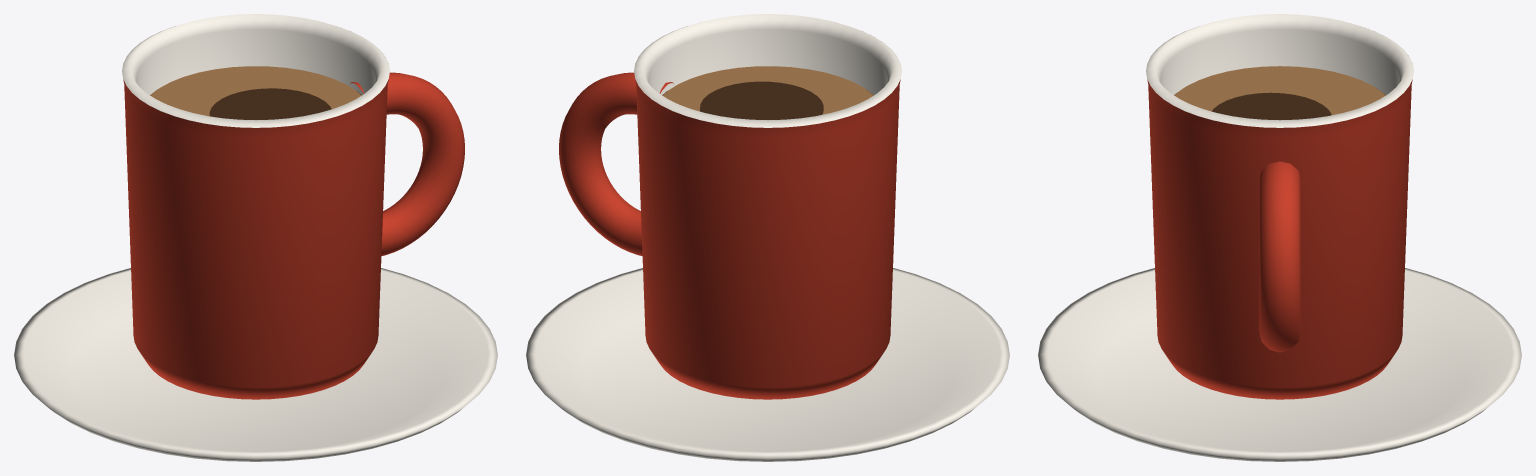
File: mug.glb
The picture shows the model from 3 angles, left to right: view 1: azimuth 30°, elevation 25°; view 2: azimuth 150°, elevation 25°; view 3: azimuth 270°, elevation 25°; orthographic projection.
Parts seen in each view (by area): view 1: mugmesh; view 2: mugmesh; view 3: mugmesh.
Boxes of the visible parts, left/top/right/bottom form: mugmesh: left=14, top=14, right=497, bottom=461; mugmesh: left=526, top=14, right=1009, bottom=461; mugmesh: left=1038, top=14, right=1521, bottom=461.
Bounding box in the file's own units: 0.156 × 0.1135 × 0.156.
